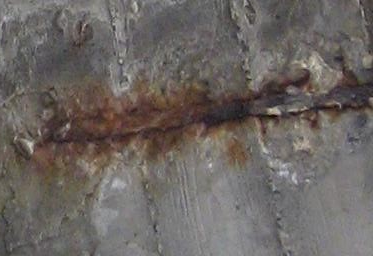Exposed reinforcement: (49, 84, 373, 142)
